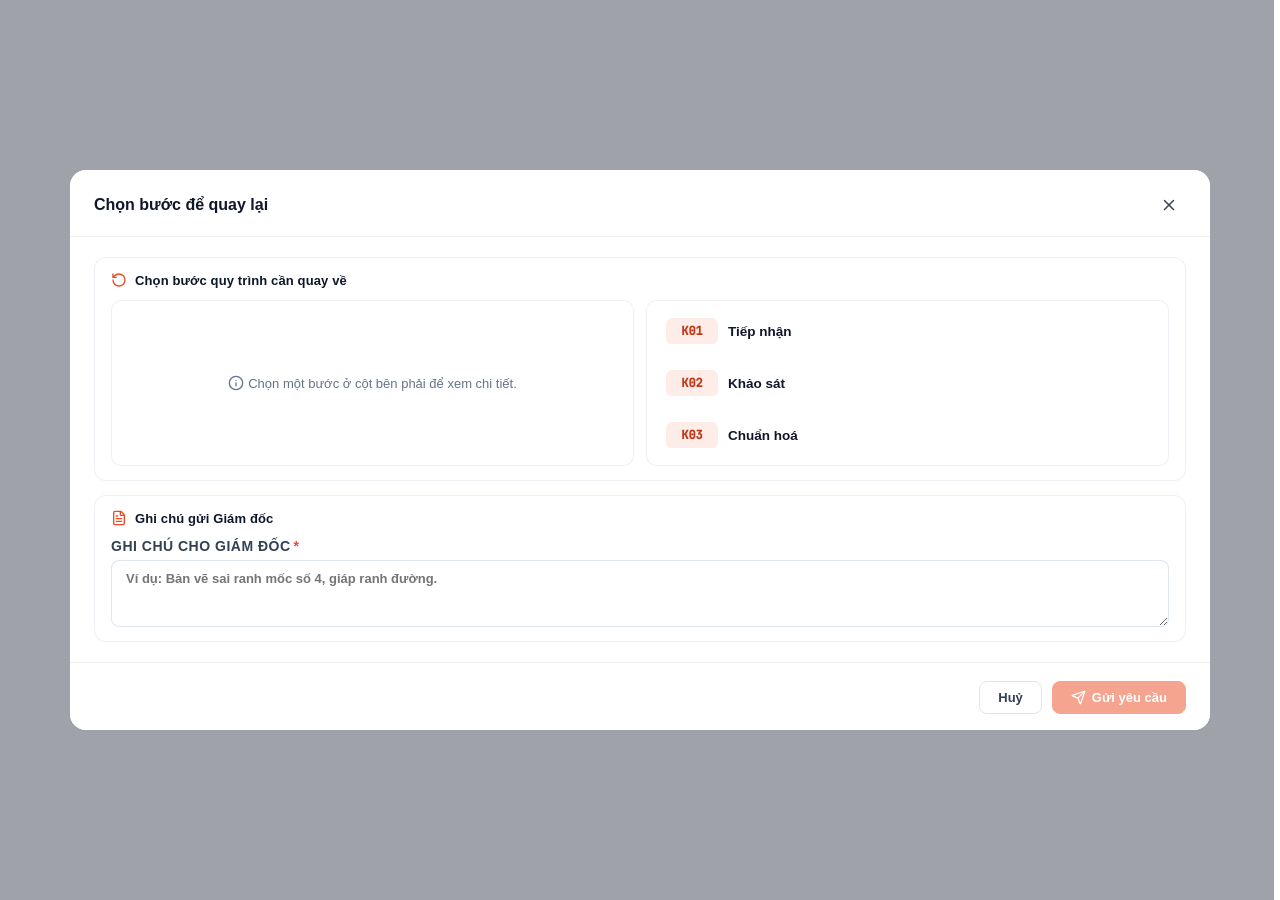
Scenario: Chọn bước để quay lại › vùng ảnh hưởng do MÁY CHỦ tính, không tự đoán theo vị trí
This screenshot has width=1280, height=900.
What coordinates should you click on to do the following:
click the button "K02 Khảo sát"
I would click on:
 (692, 383)
Its box is x1=653 y1=359 x2=1162 y2=407.
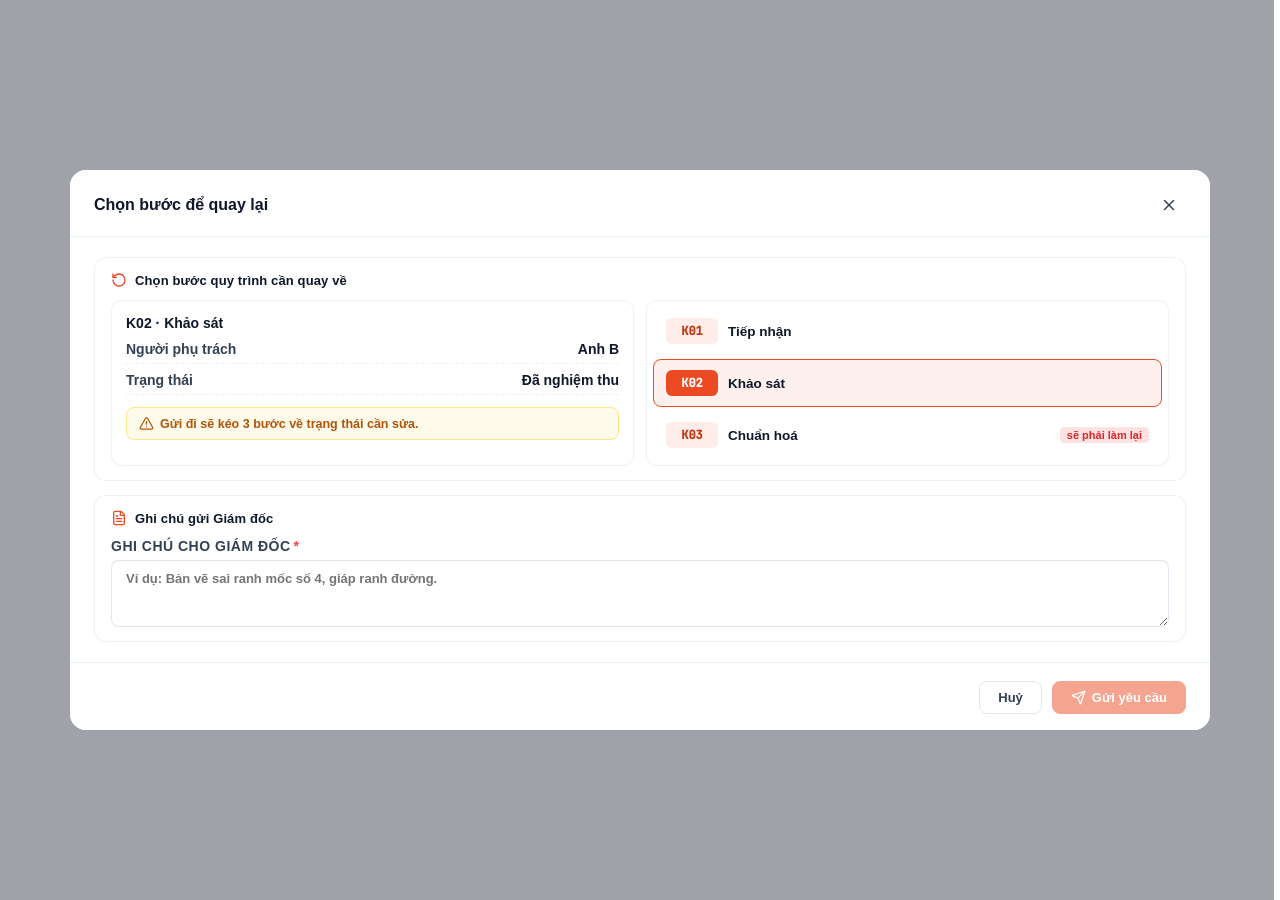
Check: the text "Gửi đi sẽ kéo 3 bước về trạng thái cần sửa." is shown, box x1=160 y1=416 x2=418 y2=430
